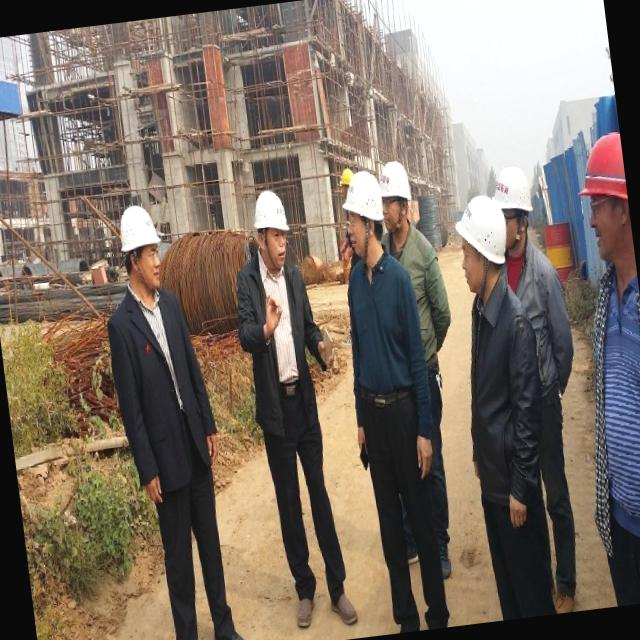helmet: (568, 119, 632, 239), (449, 188, 514, 272), (489, 153, 542, 234), (333, 157, 387, 234), (241, 175, 294, 241), (370, 151, 418, 220), (114, 196, 165, 258)
no-goggles: (250, 222, 296, 257), (122, 244, 166, 274)
no-vest: (453, 276, 552, 500), (106, 280, 206, 490), (572, 259, 640, 545), (336, 250, 428, 431), (236, 262, 317, 406), (514, 246, 560, 329)
